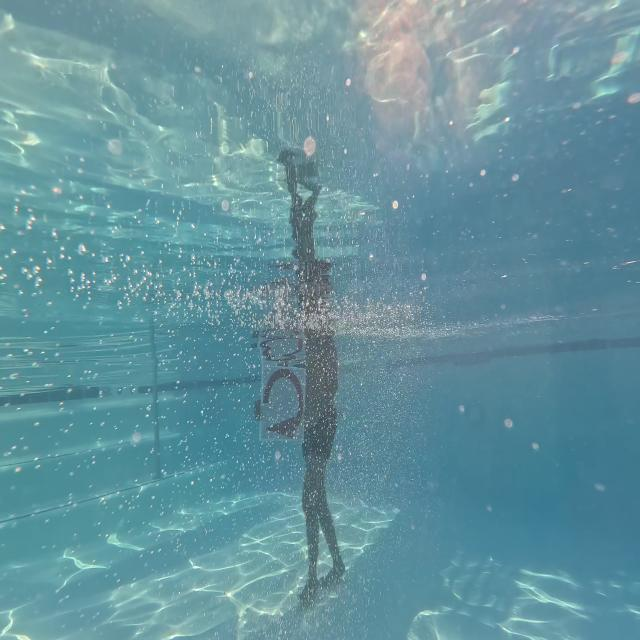red_side: (252, 357, 312, 459)
